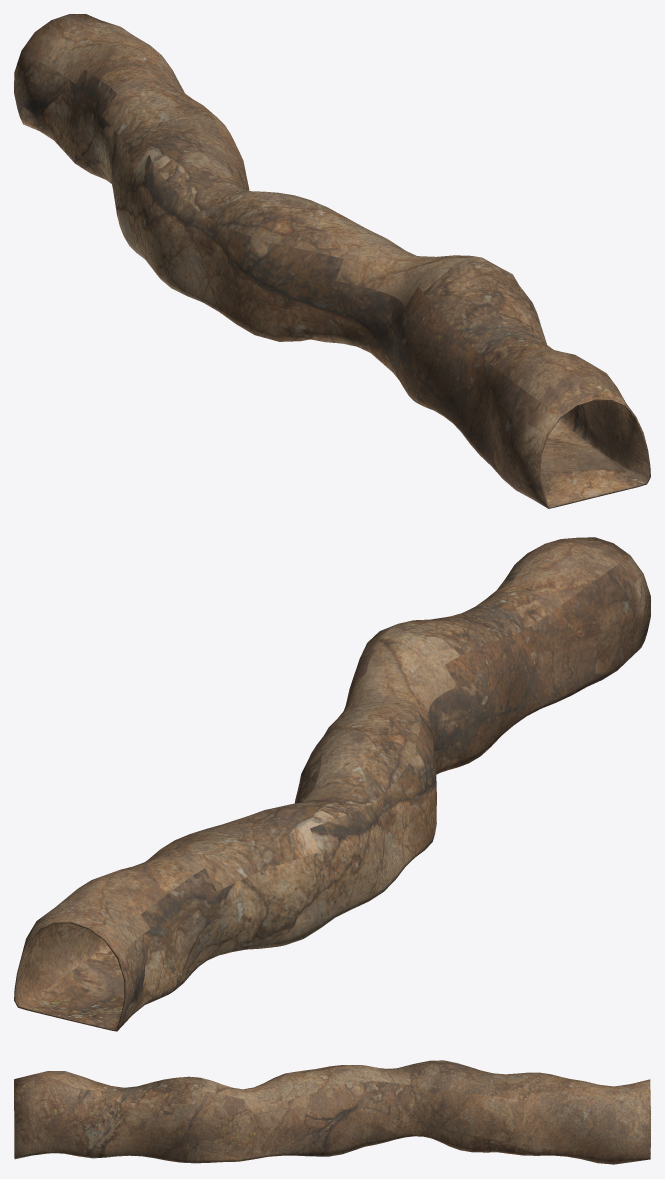
File: CaveTunnel.fbx
The picture shows the model from 3 angles, top to bottom: view 1: azimuth 30°, elevation 25°; view 2: azimuth 150°, elevation 25°; view 3: azimuth 270°, elevation 25°; orthographic projection. The views are drawn at different scales.
Visible parts, largest first — view 1: Tunnel; view 2: Tunnel; view 3: Tunnel.
Boxes of the visible parts, x1=… form: Tunnel: x1=14, y1=14, x2=650, y2=508; Tunnel: x1=14, y1=537, x2=650, y2=1031; Tunnel: x1=14, y1=1060, x2=650, y2=1164.
Bounding box in the file's own units: 377 × 255 × 1845.
